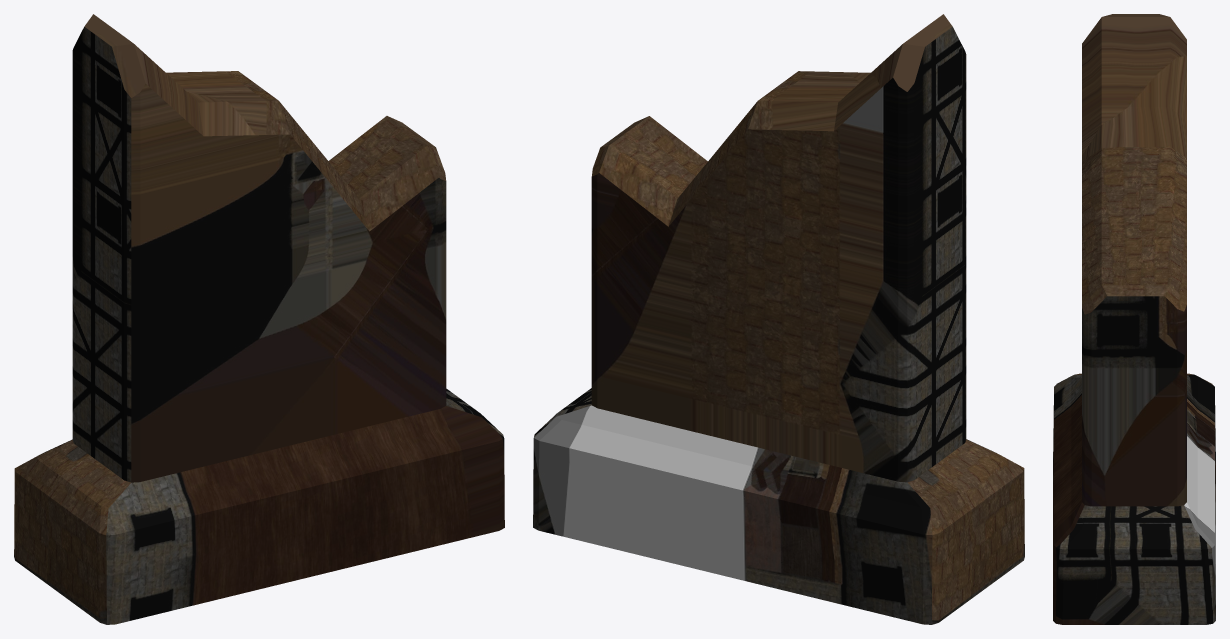
File: tombstones7.fbx
3 renders of one model, left to right at view 1: azimuth 30°, elevation 25°; view 2: azimuth 150°, elevation 25°; view 3: azimuth 270°, elevation 25°, orthographic. The views are drawn at different scales.
Visible parts, largest first — view 1: Tombstone 7_Lapide 7_0; view 2: Tombstone 7_Lapide 7_0; view 3: Tombstone 7_Lapide 7_0.
Part boxes in pixels (x1,y1,x2,y2): Tombstone 7_Lapide 7_0: [14, 14, 504, 624]; Tombstone 7_Lapide 7_0: [533, 14, 1024, 624]; Tombstone 7_Lapide 7_0: [1053, 14, 1215, 624].
Size of the model in its own units: 41.23 by 53.49 by 17.
